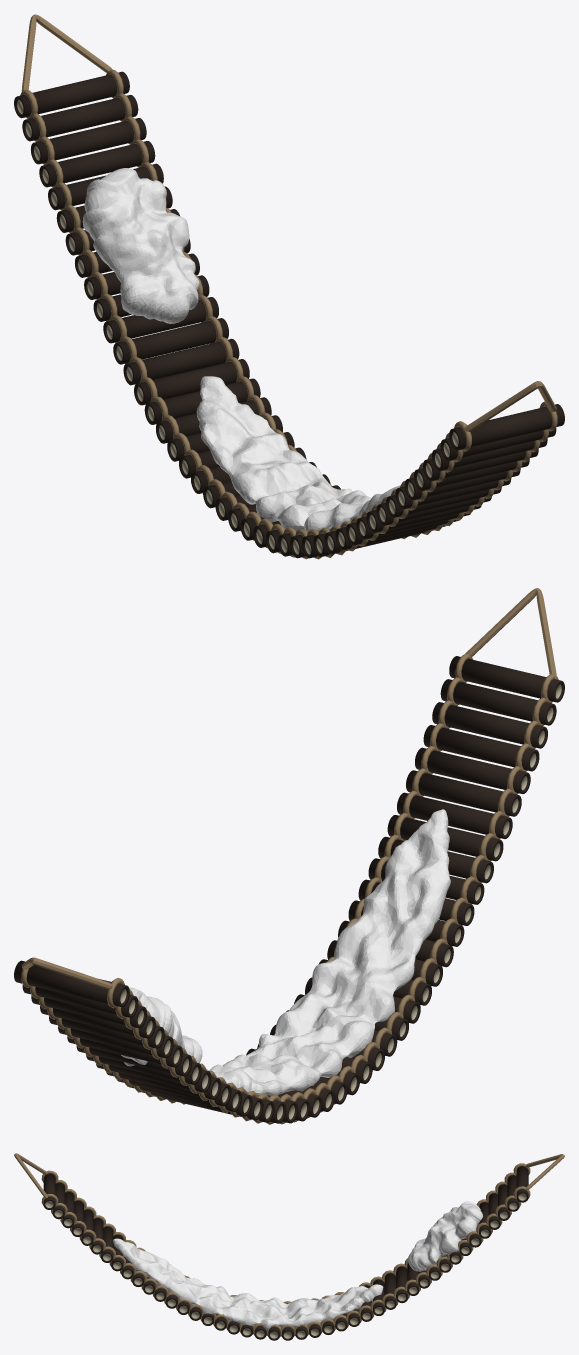
Rendered from Bridge.fbx.
The picture shows the model from 3 angles, top to bottom: view 1: azimuth 30°, elevation 25°; view 2: azimuth 150°, elevation 25°; view 3: azimuth 270°, elevation 25°; orthographic projection. The views are drawn at different scales.
Parts seen in each view (by area): view 1: Cylinder.001, Plane.005, Plane.006, Plane.007, Plane.008; view 2: Cylinder.001, Plane.005, Plane.006, Plane.008, Plane.007; view 3: Cylinder.001, Plane.005, Plane.006, Plane.007, Plane.008.
Part boxes in pixels (box(x1,y1,x2,y2)): Cylinder.001: box(14, 69, 564, 559); Plane.005: box(196, 376, 400, 531); Plane.006: box(82, 168, 199, 323); Plane.007: box(21, 14, 112, 91); Plane.008: box(462, 381, 556, 432); Cylinder.001: box(14, 653, 564, 1124); Plane.005: box(206, 809, 450, 1095); Plane.006: box(121, 987, 202, 1066); Plane.008: box(465, 588, 556, 679); Plane.007: box(22, 957, 112, 989); Cylinder.001: box(41, 1163, 530, 1340); Plane.005: box(113, 1238, 383, 1329); Plane.006: box(408, 1201, 482, 1271); Plane.007: box(526, 1154, 564, 1189); Plane.008: box(14, 1153, 47, 1198).
Bounding box in the file's own units: 90 × 261 × 741.
